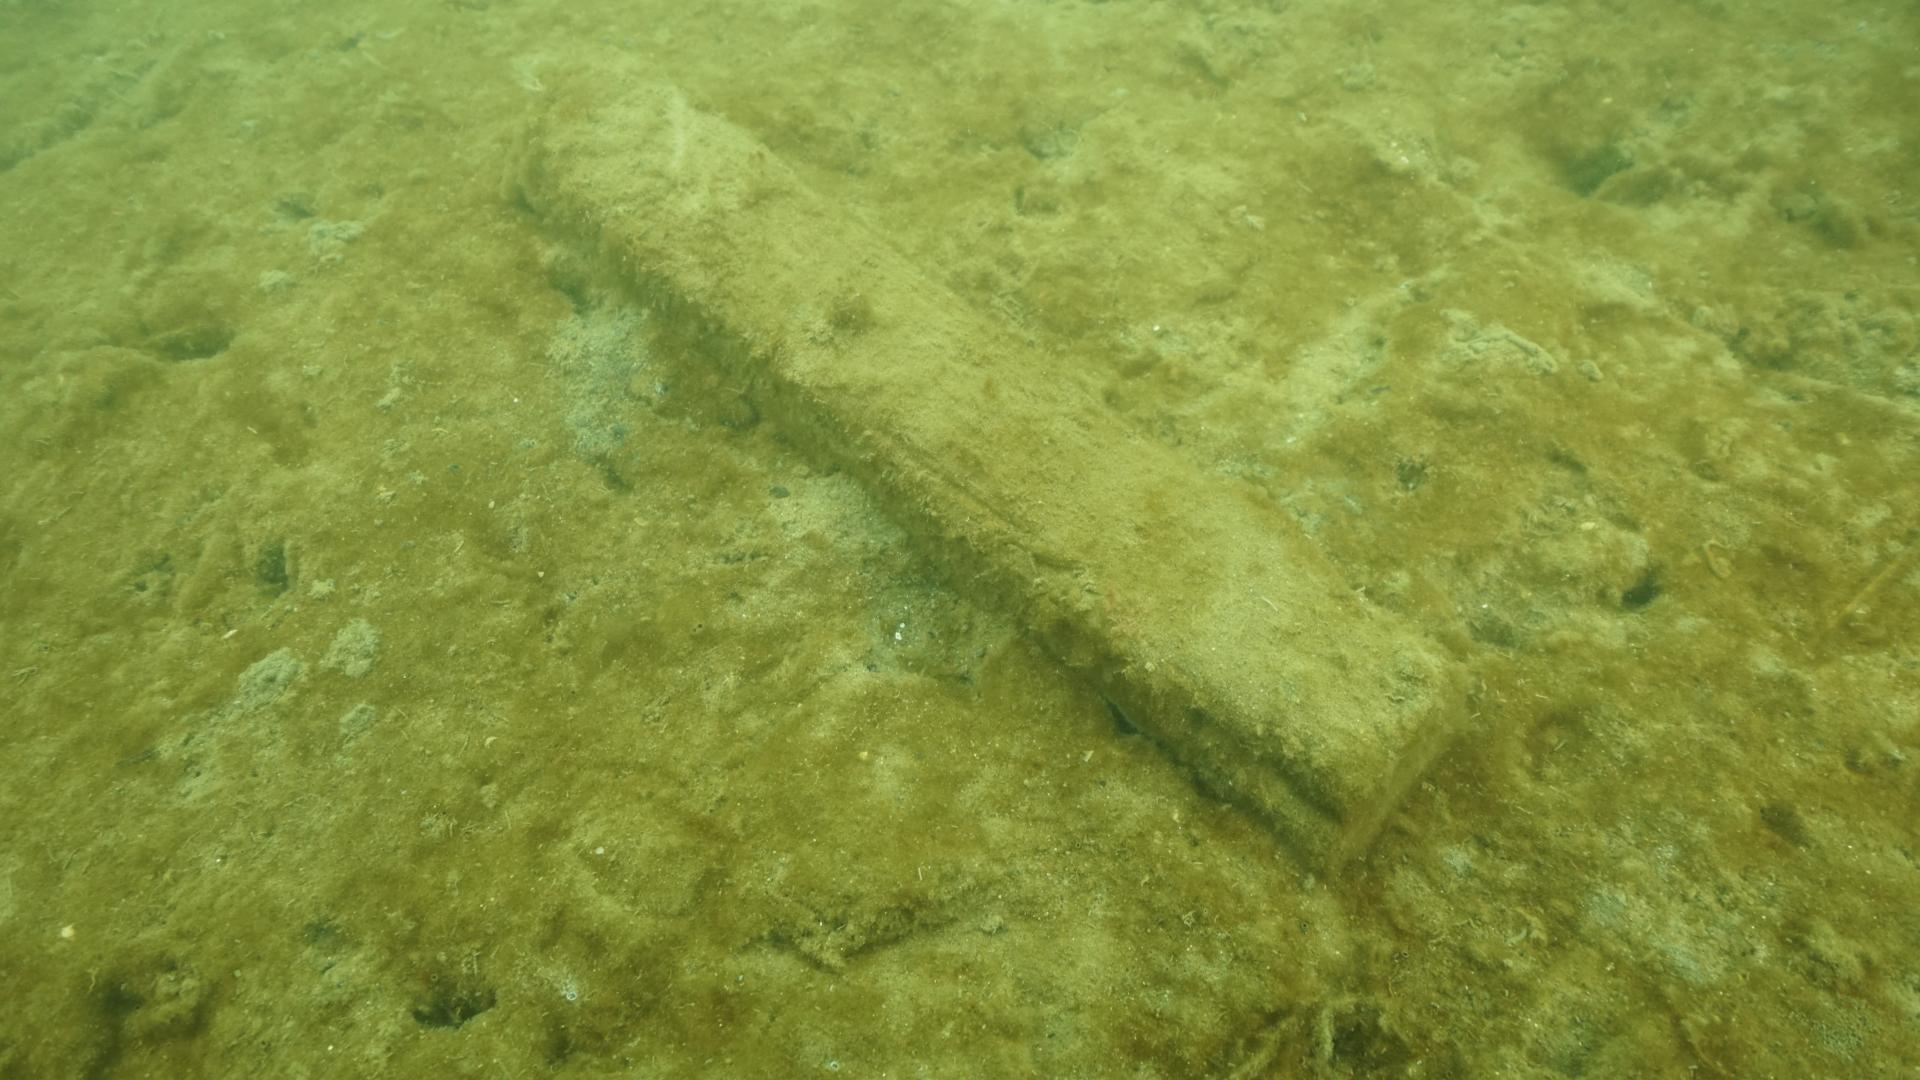wood: (508, 38, 1468, 880)
